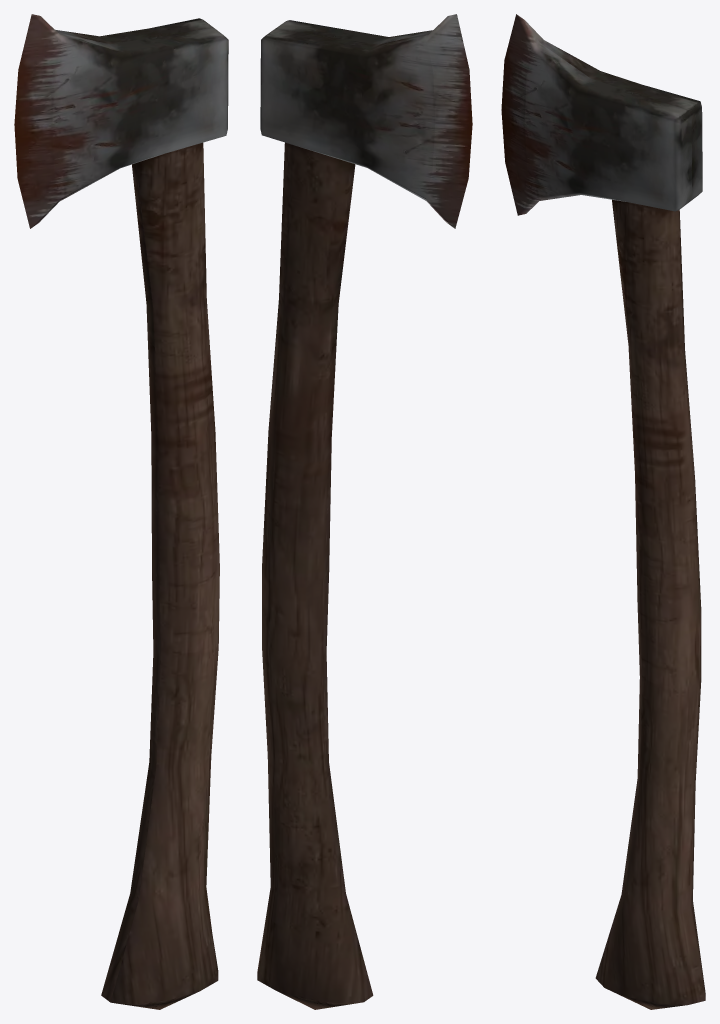
File: x_restos_bloody_axe.glb
The picture shows the model from 3 angles, left to right: view 1: azimuth 30°, elevation 25°; view 2: azimuth 150°, elevation 25°; view 3: azimuth 330°, elevation 25°; orthographic projection. The views are drawn at different scales.
Parts seen in each view (by area): view 1: Axe_StingrayPBS1_0; view 2: Axe_StingrayPBS1_0; view 3: Axe_StingrayPBS1_0.
Boxes of the visible parts, x1,y1,x2,y2 form: Axe_StingrayPBS1_0: (14, 14, 228, 1009); Axe_StingrayPBS1_0: (257, 14, 472, 1009); Axe_StingrayPBS1_0: (501, 14, 705, 1009).
Size of the model in its own units: 0.1706 by 0.8 by 0.0531.
Materials: 1 (1 with a texture image).
